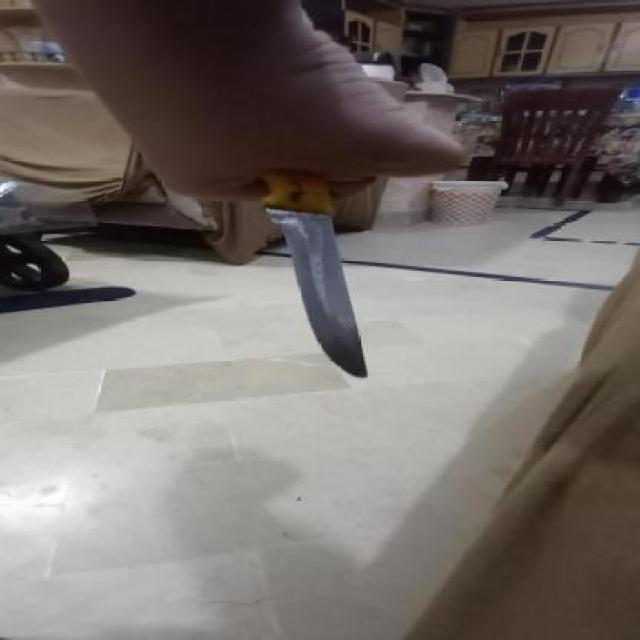knife: (263, 170, 369, 378)
